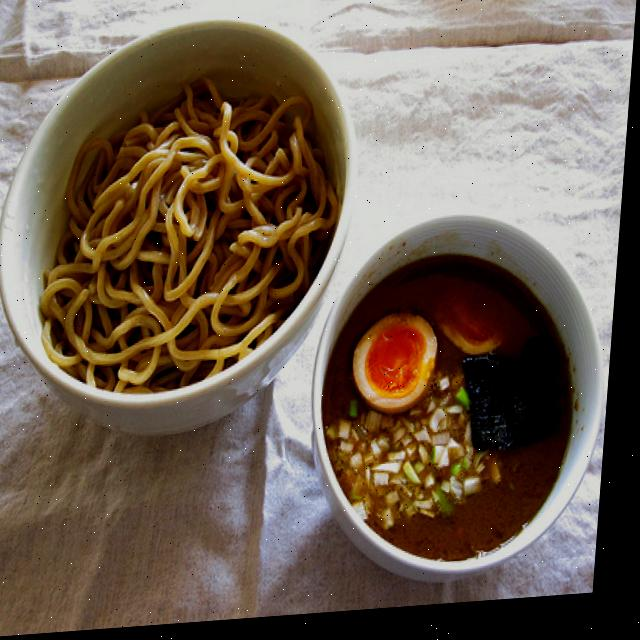面条主食: (29, 45, 604, 600)
